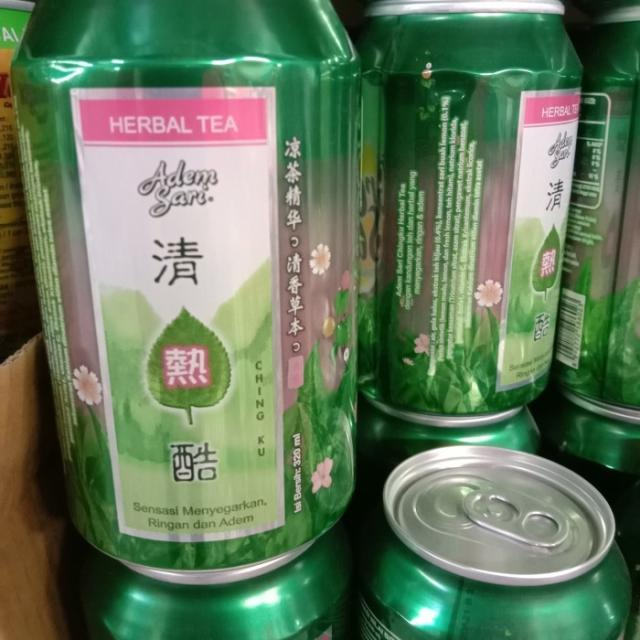ademsarikaleng: (7, 0, 362, 585), (356, 0, 584, 428), (354, 443, 633, 638)
